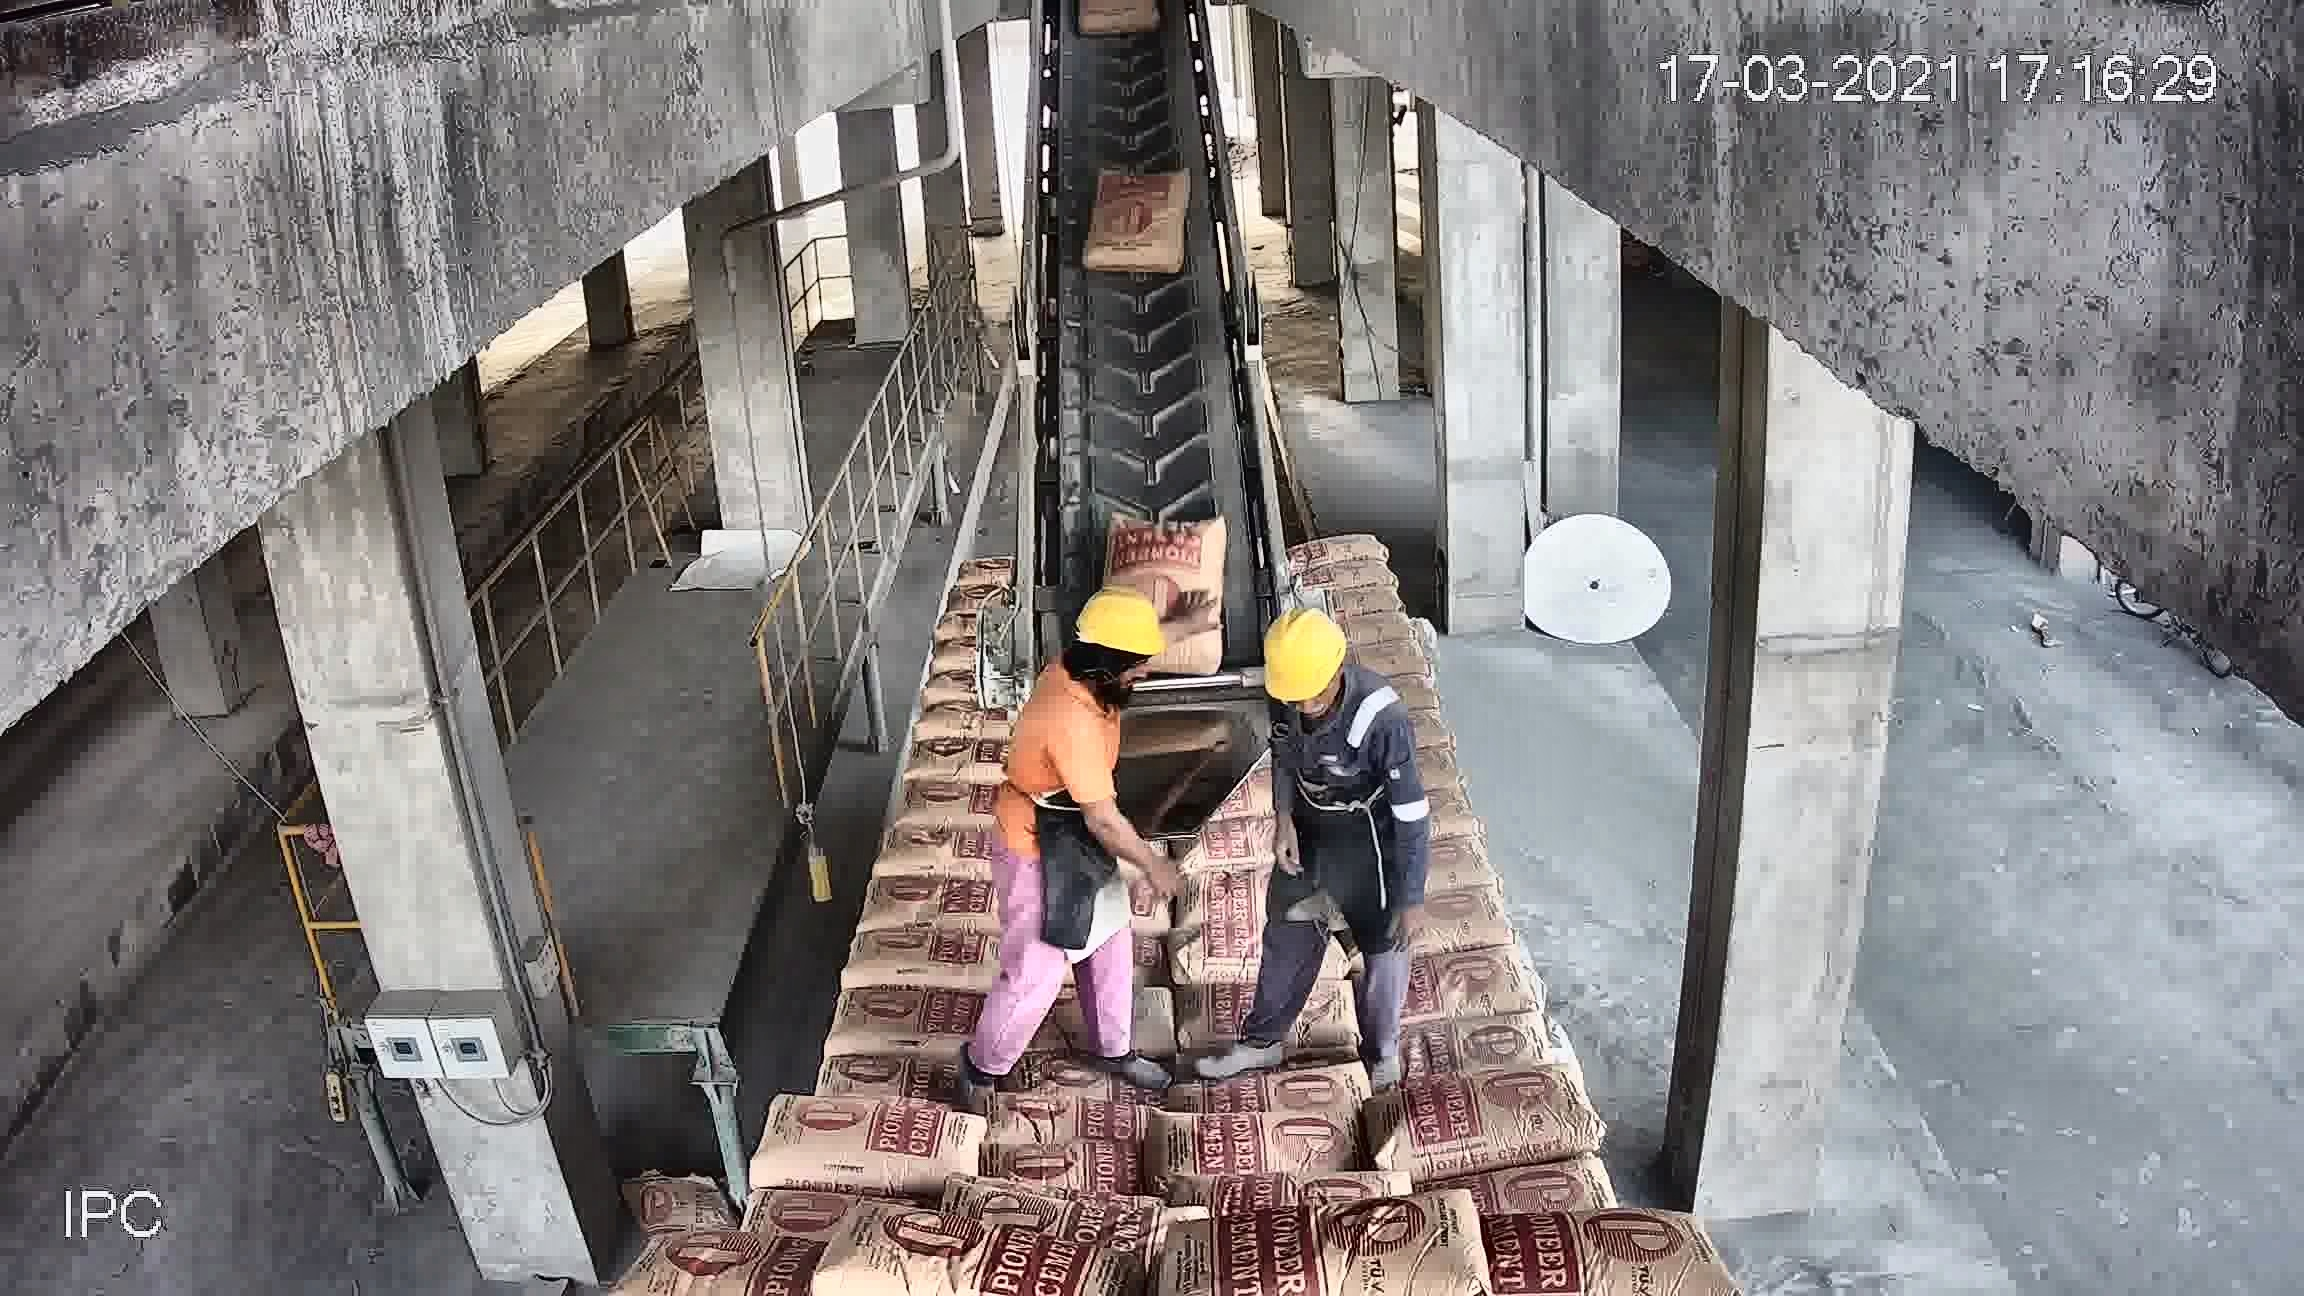bag: (1103, 513, 1228, 679), (1086, 172, 1198, 274)
bag_h: (1196, 1177, 1537, 1294), (1351, 1060, 1606, 1187), (1424, 1198, 1704, 1296), (793, 1215, 1133, 1294), (752, 1095, 997, 1192), (1150, 1100, 1377, 1195), (1158, 1029, 1353, 1116), (635, 1225, 853, 1294), (1389, 946, 1543, 1038), (837, 919, 1003, 992), (1400, 1003, 1562, 1078), (824, 987, 984, 1062), (866, 813, 1000, 891), (975, 1093, 1144, 1154), (820, 1043, 968, 1101), (1402, 892, 1529, 961), (861, 875, 997, 935), (987, 1131, 1143, 1182), (881, 780, 1002, 831), (904, 726, 999, 790), (1299, 555, 1400, 597), (1287, 533, 1394, 570)
belt: (1008, 49, 1293, 793)
